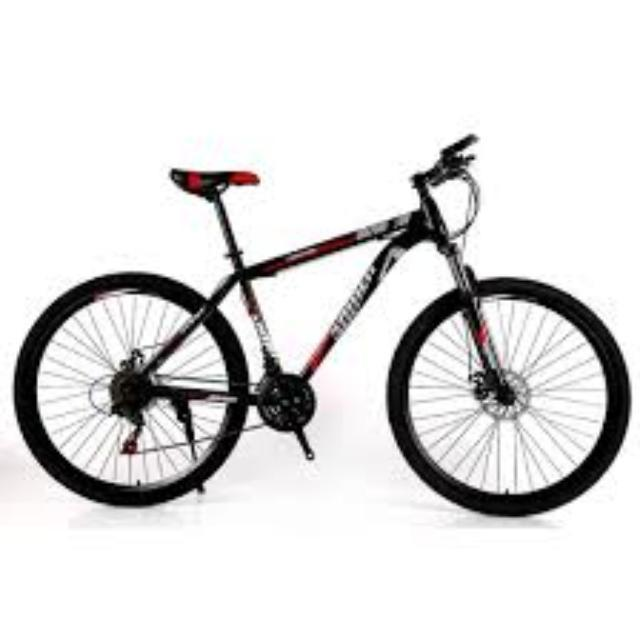obstacle: (9, 133, 640, 529), (639, 133, 640, 529)
